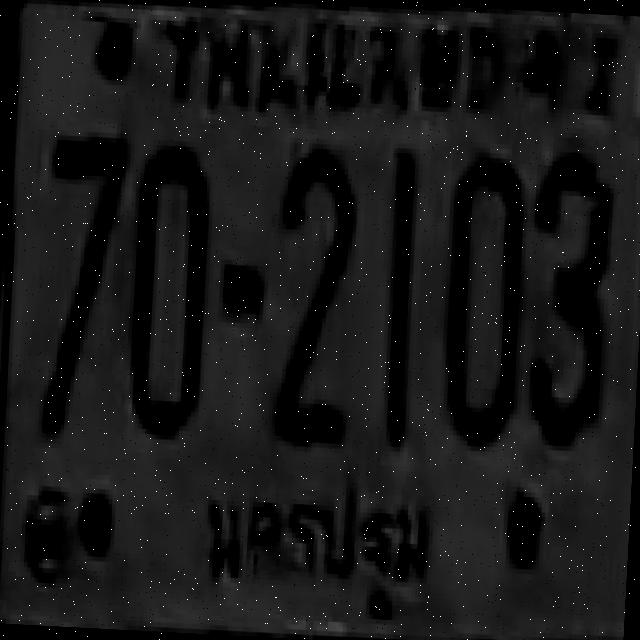0: (122, 140, 210, 436), (436, 151, 525, 443)
2: (268, 142, 359, 406), (270, 147, 358, 415), (271, 144, 357, 384)
3: (519, 146, 612, 443)
7: (40, 130, 126, 365), (42, 130, 126, 317)
NakhonPathom: (180, 463, 445, 640)
